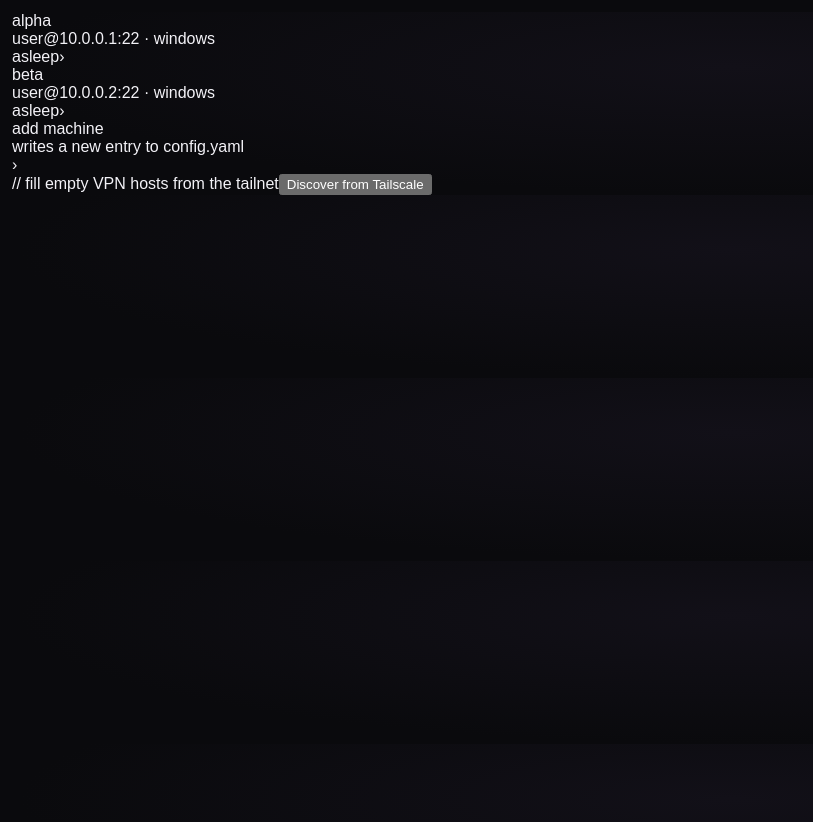
it: MachineEditor — Discover from Tailscale (D3 slice 3) › a rejected PUT downgrades that host's line to fill failed; the batch survives and toasts err
What coordinates should you click on to do the following:
click the button "Discover from Tailscale"
I would click on:
 (355, 184)
Its box is [279,174,432,195].
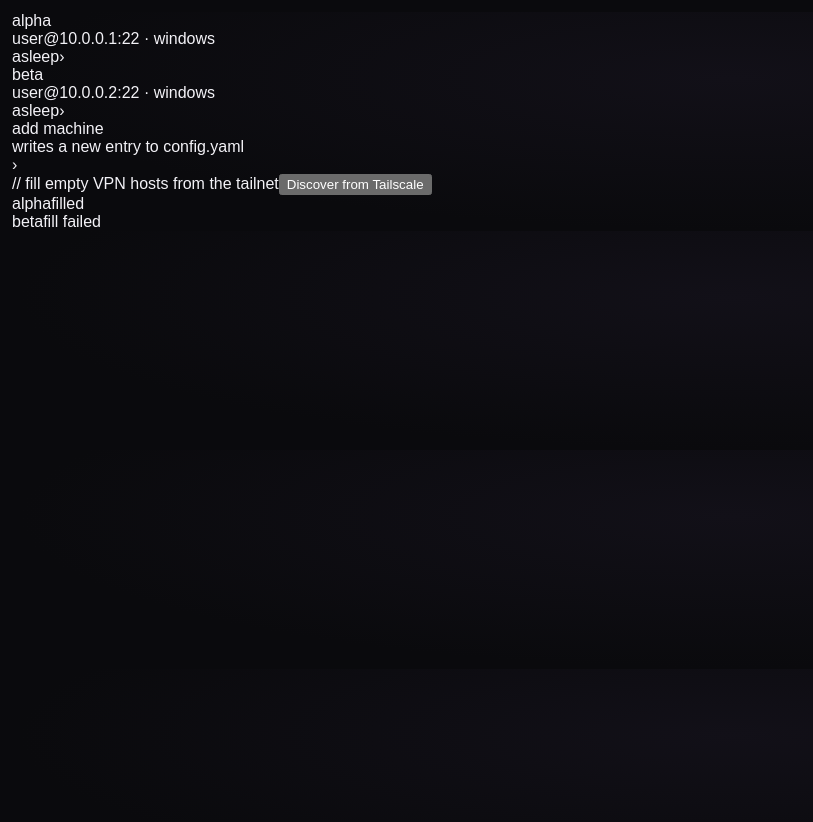
Expected: the text "fill failed" is shown, [43,213,101,230]
Expected: the text "filled" is shown, [51,195,84,212]
